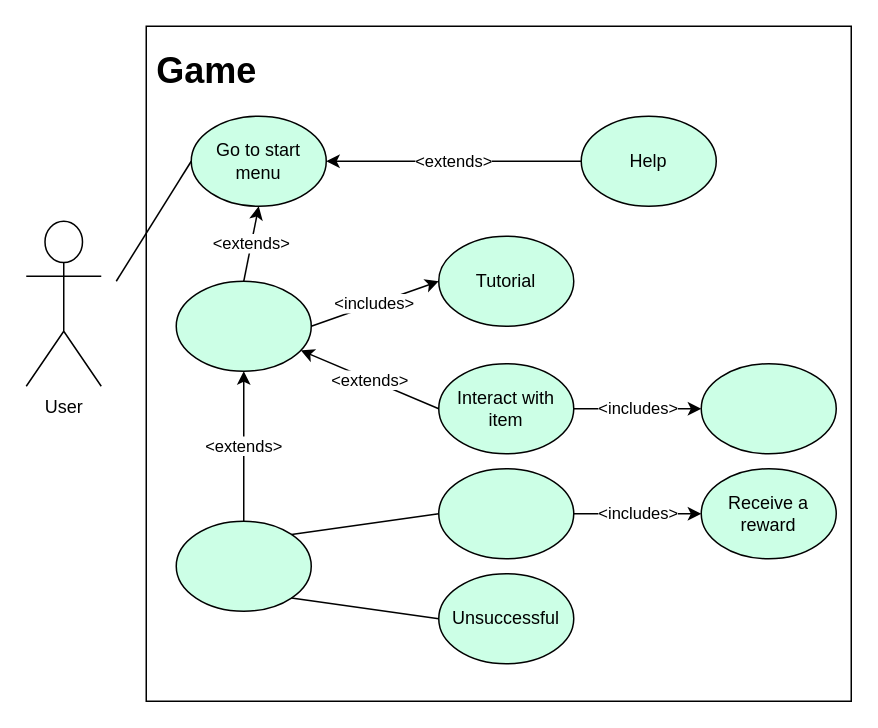
The diagram is 878 pixels wide and 728 high, and some of its shapes have lost their labels. Here are the shapes that lost their labels. From the top down, the centre of each, then its label:
At (243,325): "Start new game".
At (768,408): "Item makes sound".
At (505,513): "Successful".
At (243,565): "Do a task".
